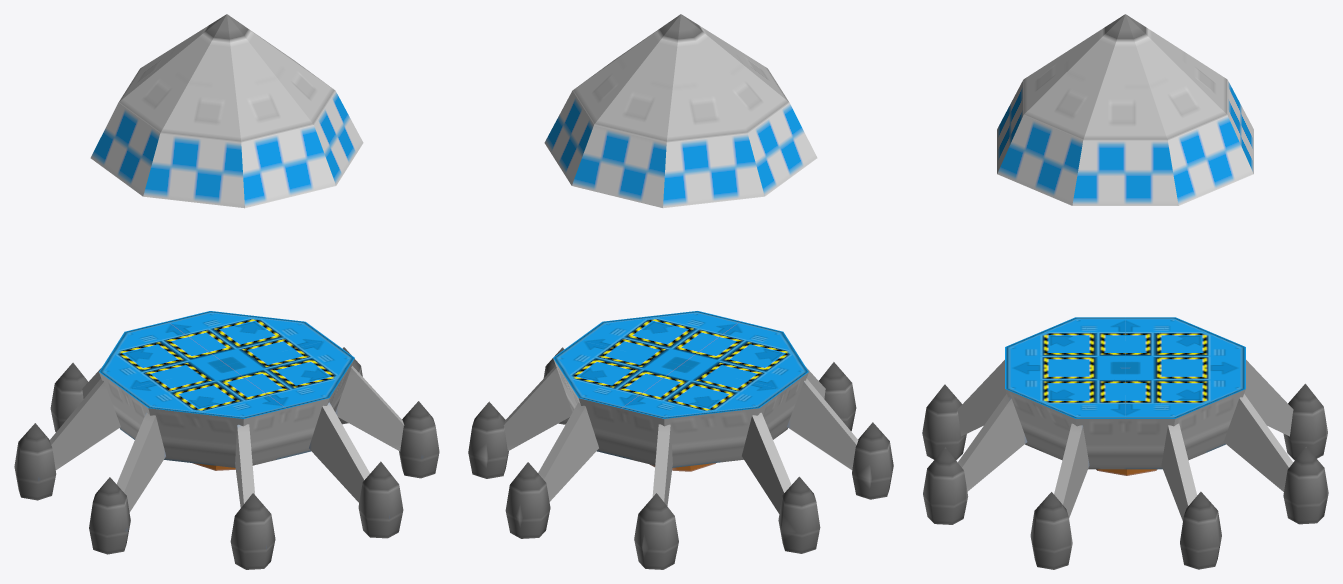
3 views of the same model, side by side, from view 1: azimuth 30°, elevation 25°; view 2: azimuth 150°, elevation 25°; view 3: azimuth 270°, elevation 25° (orthographic).
Visible parts, largest first — view 1: base1; view 2: base1; view 3: base1.
Boxes of the visible parts, x1=… form: base1: x1=14, y1=14, x2=439, y2=569; base1: x1=468, y1=14, x2=893, y2=569; base1: x1=922, y1=14, x2=1328, y2=569.
Bounding box in the file's own units: 93.6 × 120 × 93.6.
